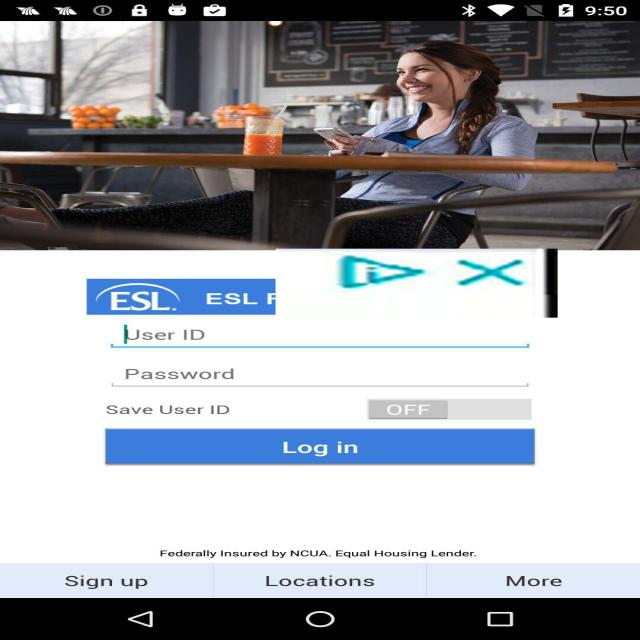sneaking: (276, 248, 558, 318)
